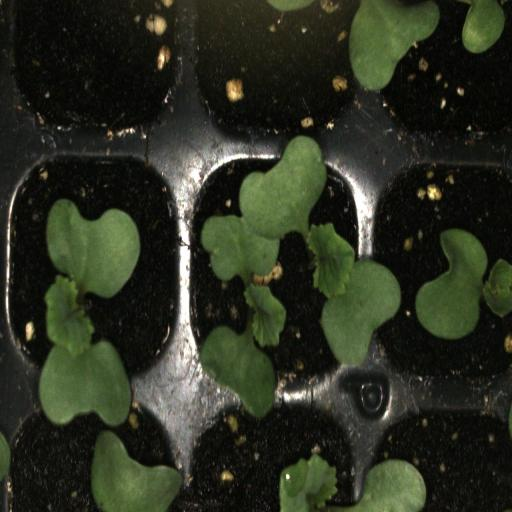Folha: (279, 453, 426, 512)
Germinacao: (1, 146, 188, 390), (186, 148, 366, 394), (370, 149, 512, 393)
